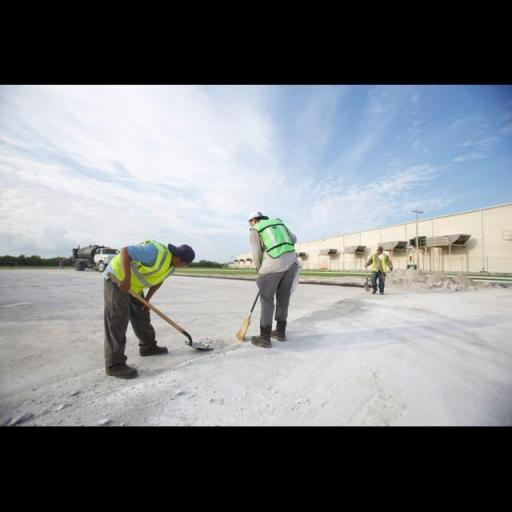Person: (99, 224, 215, 388), (237, 196, 318, 364), (365, 235, 402, 298)
boots: (266, 315, 292, 345), (104, 356, 136, 380), (247, 325, 274, 353), (139, 336, 170, 358)
none: (174, 242, 206, 268), (116, 273, 138, 300), (138, 293, 159, 319)
vest: (104, 240, 179, 292), (252, 217, 297, 258), (368, 252, 388, 271)
